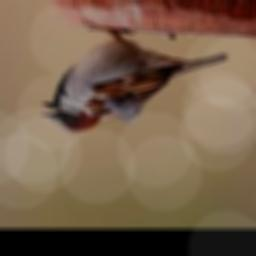Sparrow: (40, 21, 227, 134)
